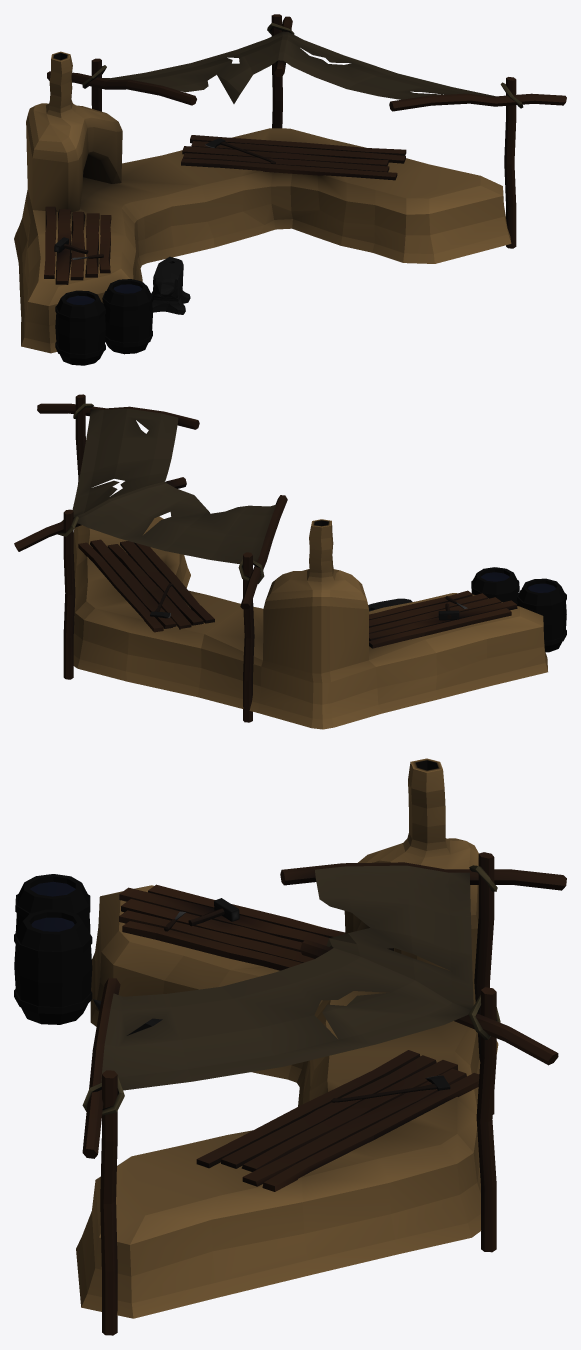
Rendered from CraftingStation_V1.fbx.
3 views of the same model, one above another, from view 1: azimuth 30°, elevation 25°; view 2: azimuth 150°, elevation 25°; view 3: azimuth 270°, elevation 25° (orthographic). The views are drawn at different scales.
Parts seen in each view (by area): view 1: Crafting_Station, Crafting_Station_Overhead; view 2: Crafting_Station, Crafting_Station_Overhead; view 3: Crafting_Station, Crafting_Station_Overhead.
Boxes of the visible parts, <box> form: Crafting_Station: <box>14,14,566,365</box>; Crafting_Station_Overhead: <box>100,31,494,103</box>; Crafting_Station: <box>14,394,566,729</box>; Crafting_Station_Overhead: <box>72,408,276,564</box>; Crafting_Station: <box>14,758,566,1335</box>; Crafting_Station_Overhead: <box>101,865,473,1090</box>.
Bounding box in the file's own units: 189 × 67.83 × 111.
